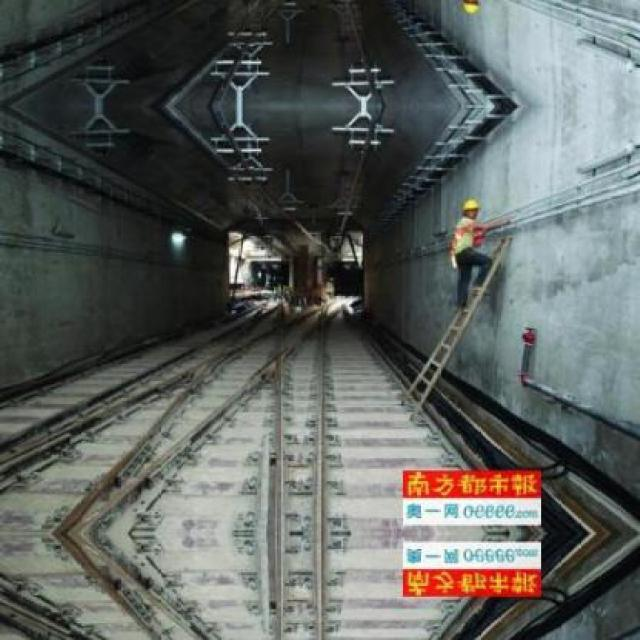helmet: (462, 195, 483, 220), (462, 0, 484, 19)
